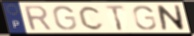C: (77, 5, 106, 31)
G: (52, 5, 79, 31), (131, 5, 158, 31)
N: (155, 4, 187, 32)
R: (22, 4, 54, 32)
T: (104, 4, 126, 32)
